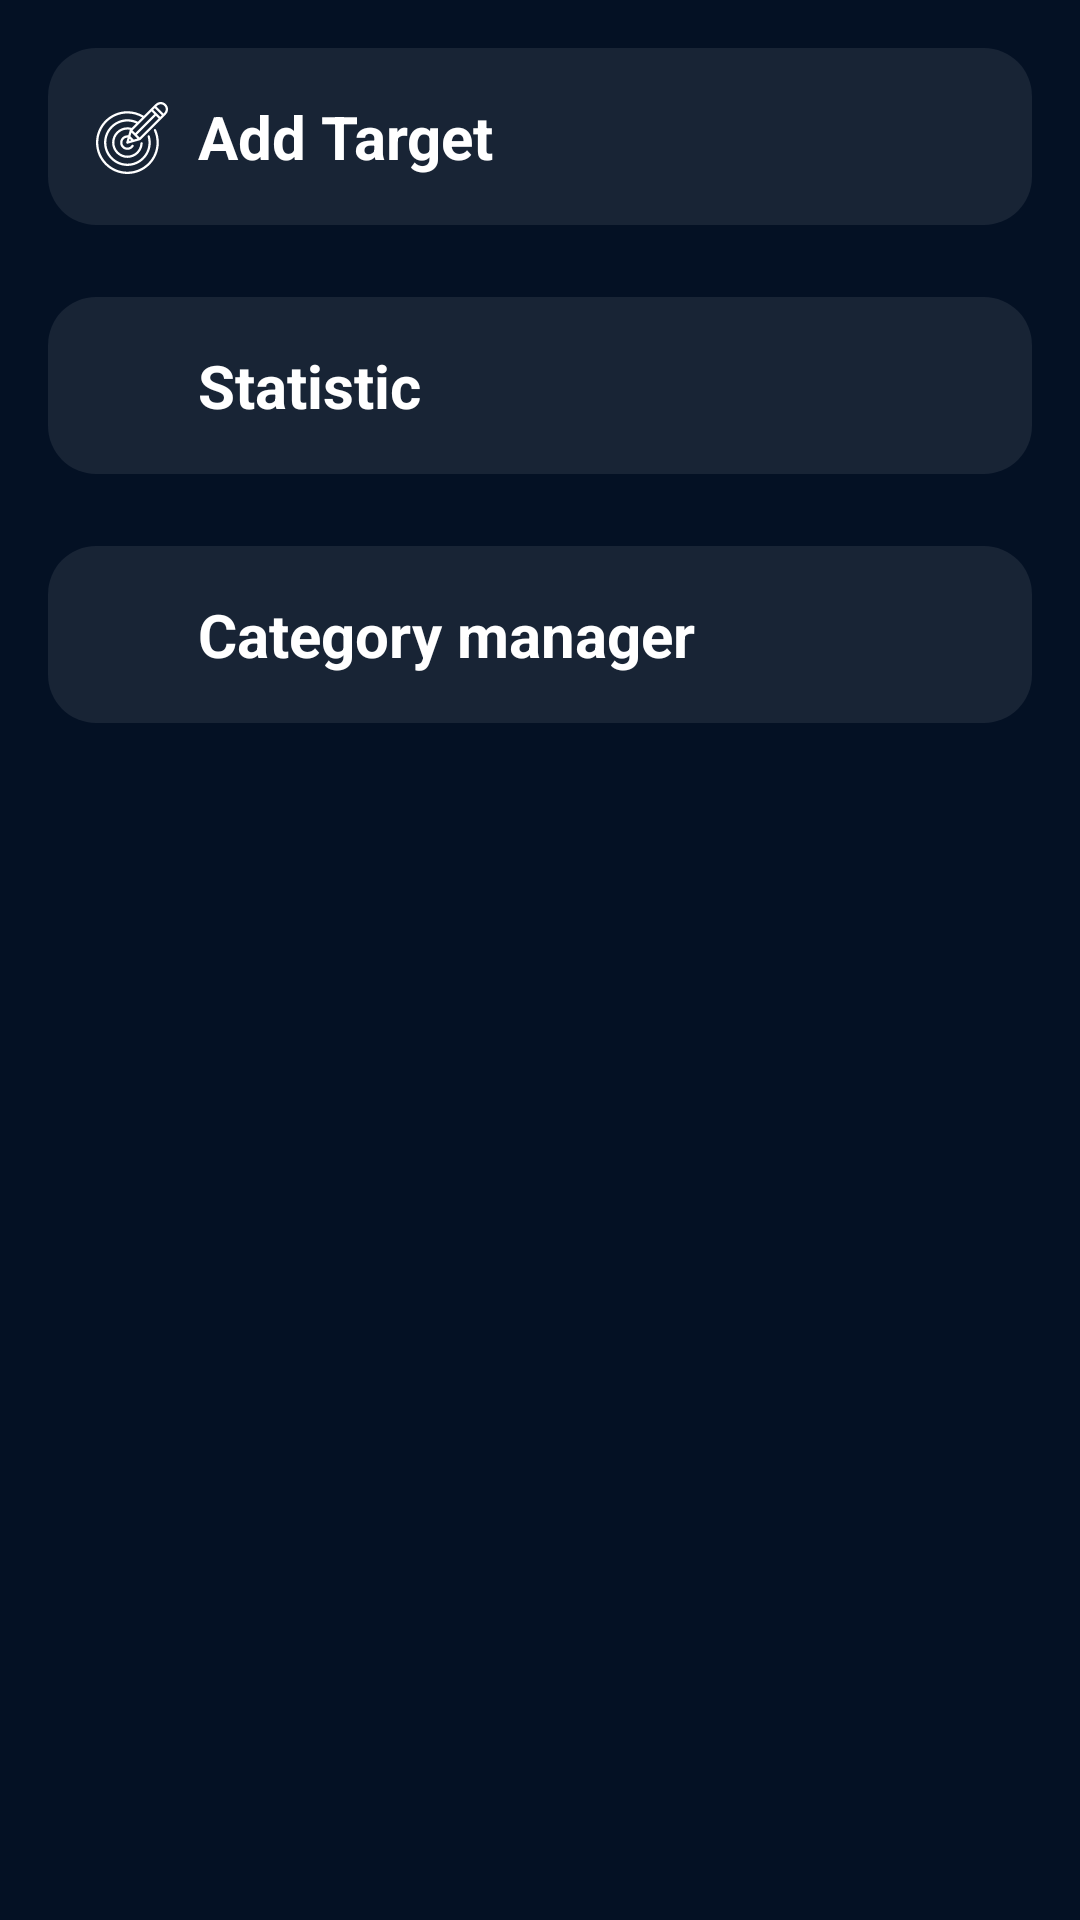

Icons on this 1080px×1920px Android screen, each with the point to tap as [x,y]:
goal: [132,138]
